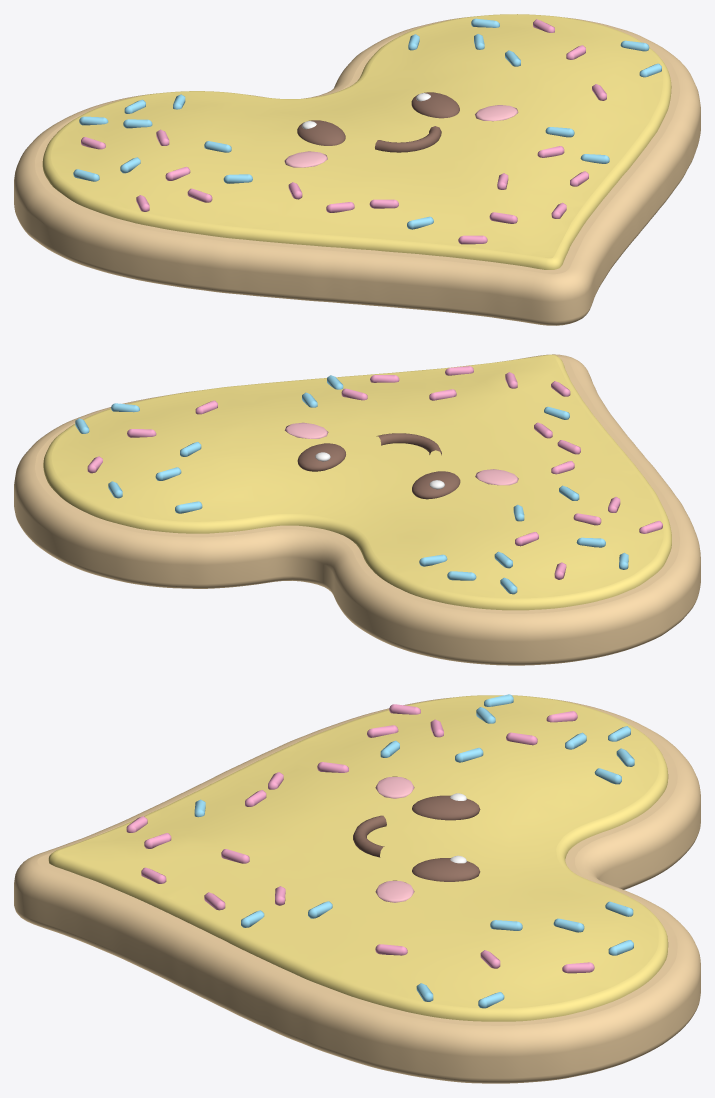
Rendered from HeartCookie.glb.
The picture shows the model from 3 angles, top to bottom: view 1: azimuth 30°, elevation 25°; view 2: azimuth 150°, elevation 25°; view 3: azimuth 270°, elevation 25°; orthographic projection. The views are drawn at different scales.
Parts seen in each view (by area): view 1: Icing, Cookie, Sprinkles2, Sprinkles, Face, Cheeks; view 2: Icing, Cookie, Sprinkles, Sprinkles2, Face, Cheeks; view 3: Icing, Cookie, Sprinkles, Sprinkles2, Face, Cheeks.
Boxes of the visible parts, <box> form: Icing: <box>42,14,671,269</box>; Cookie: <box>14,16,700,325</box>; Sprinkles2: <box>73,18,661,229</box>; Sprinkles: <box>81,19,606,244</box>; Face: <box>297,92,459,152</box>; Cheeks: <box>284,105,518,167</box>; Icing: <box>43,354,671,610</box>; Cookie: <box>14,354,700,665</box>; Sprinkles: <box>87,366,662,579</box>; Sprinkles2: <box>75,375,628,594</box>; Face: <box>297,433,460,499</box>; Cheeks: <box>284,422,518,485</box>; Icing: <box>48,695,668,1021</box>; Cookie: <box>14,697,700,1083</box>; Sprinkles: <box>126,704,594,973</box>; Sprinkles2: <box>194,694,634,1008</box>; Face: <box>353,795,480,881</box>; Cheeks: <box>375,776,414,902</box>.
Size of the model in its own units: 10.54 by 1.18 by 8.79.
